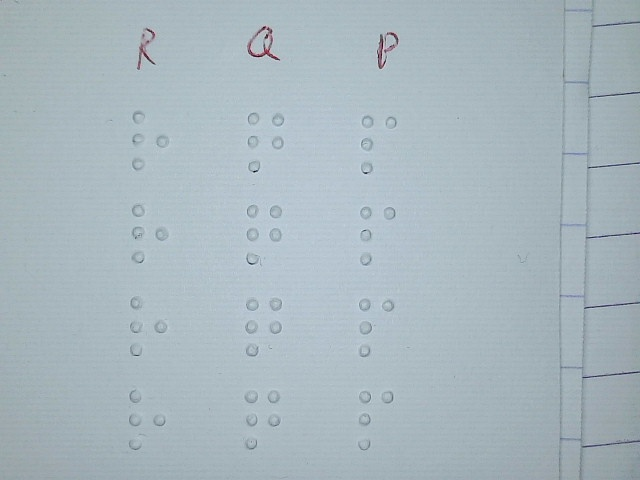P: (360, 112, 397, 175), (359, 202, 396, 265), (358, 389, 395, 450), (358, 297, 395, 357)
Q: (246, 109, 285, 172), (245, 204, 283, 265), (245, 296, 283, 357), (243, 388, 281, 449)
R: (131, 109, 170, 172), (130, 202, 169, 265), (129, 294, 168, 357), (127, 387, 166, 450)
